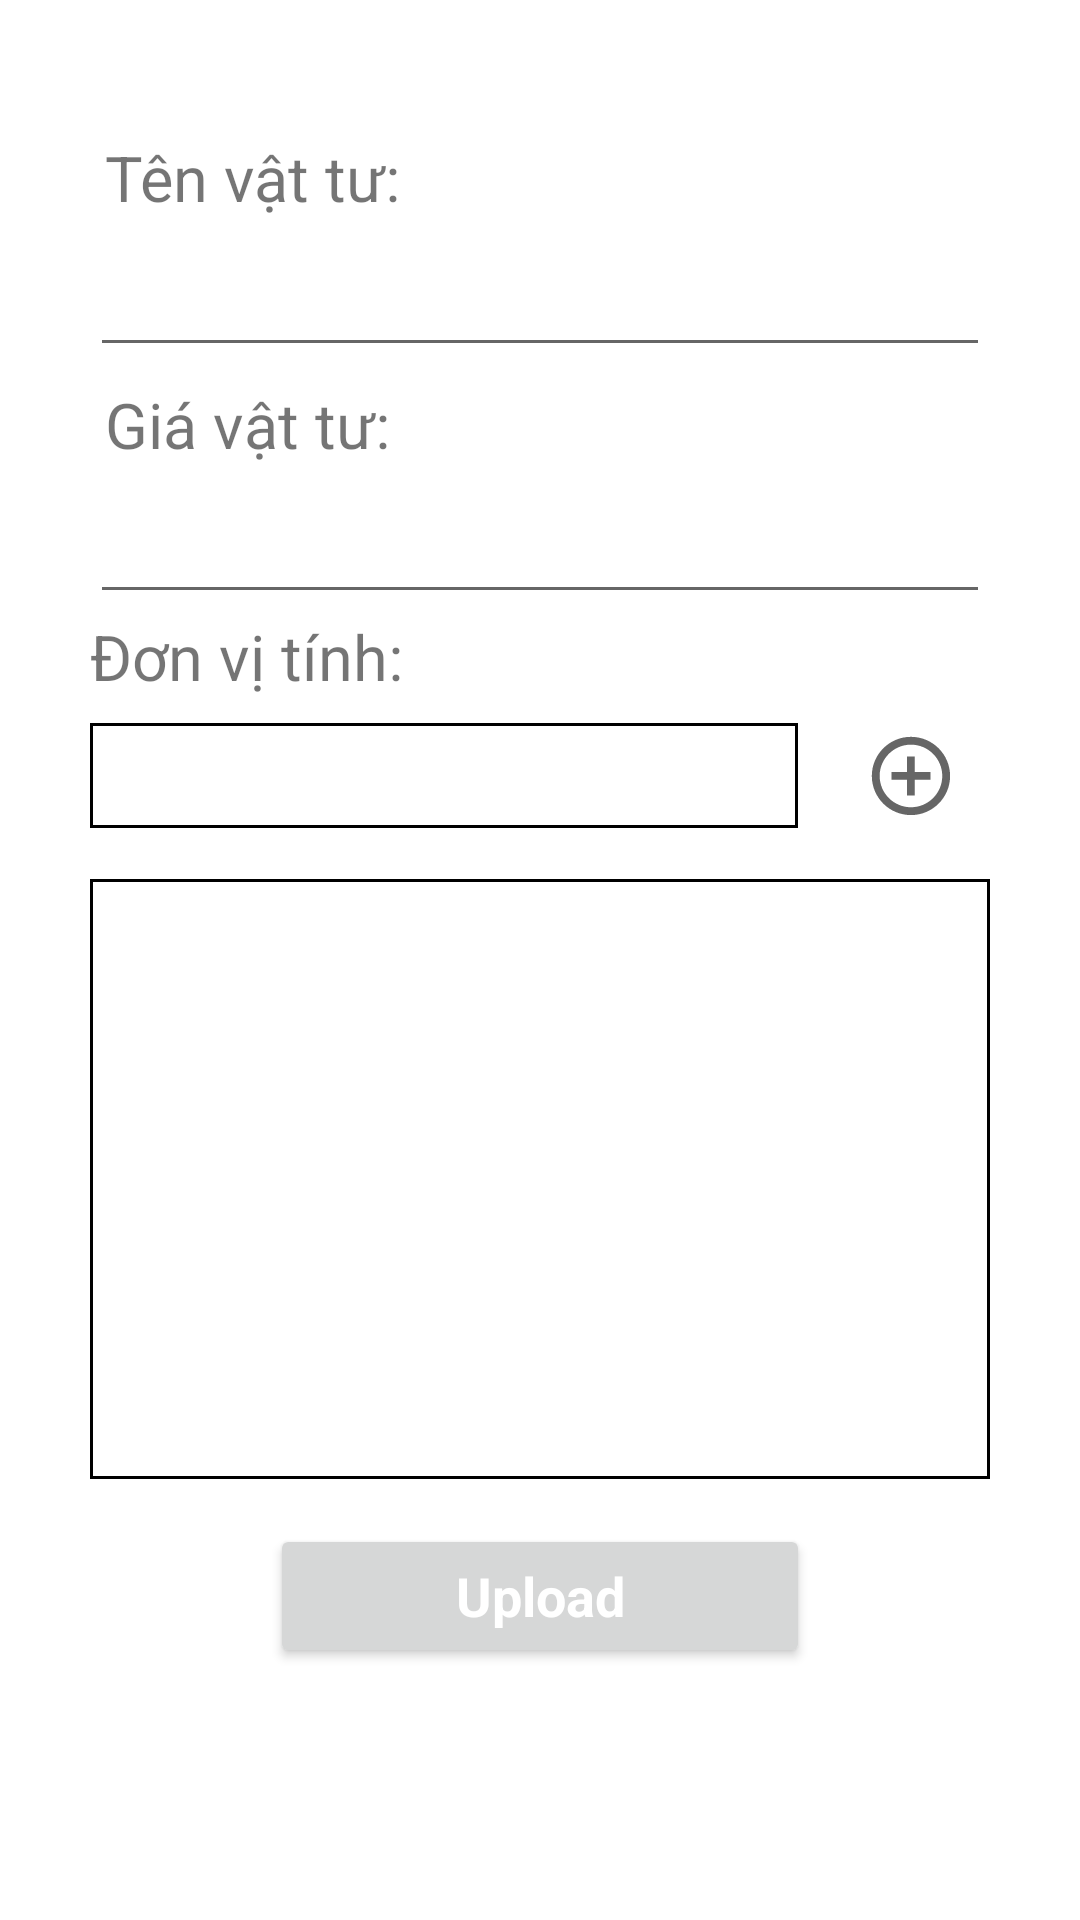

Icon click points for this 1080*1920 phone screenshot, format [x,y]:
add circle: [910,775]
